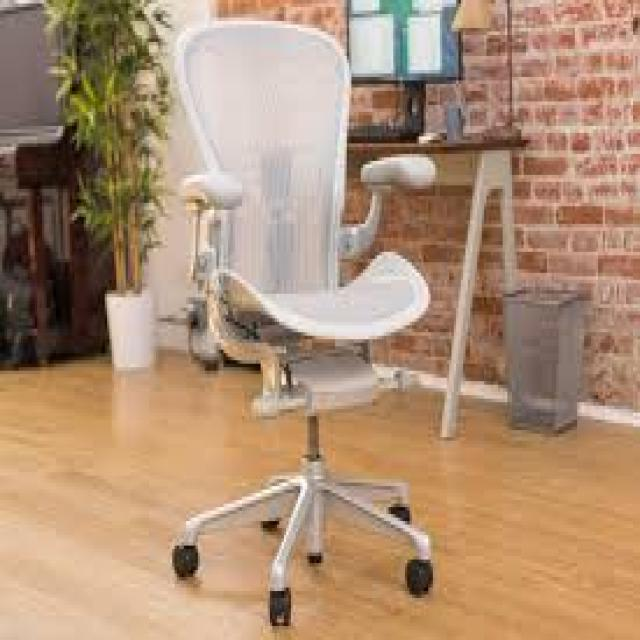chair: (108, 0, 468, 640)
